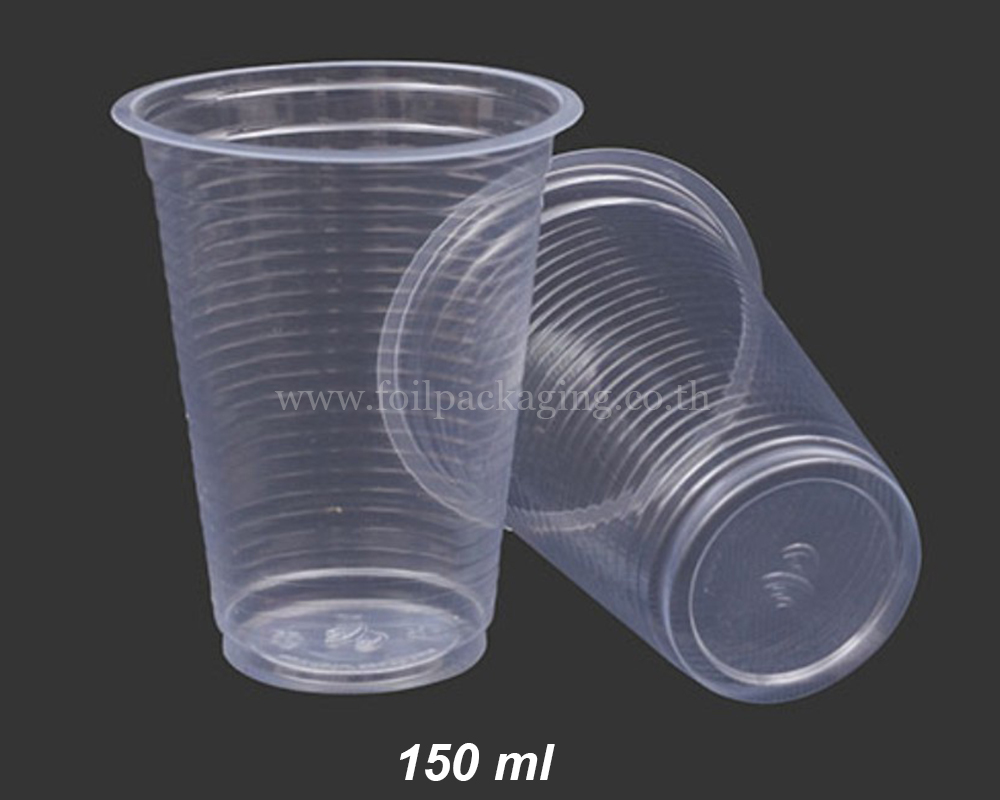plastic_bottle: (108, 46, 597, 711)
